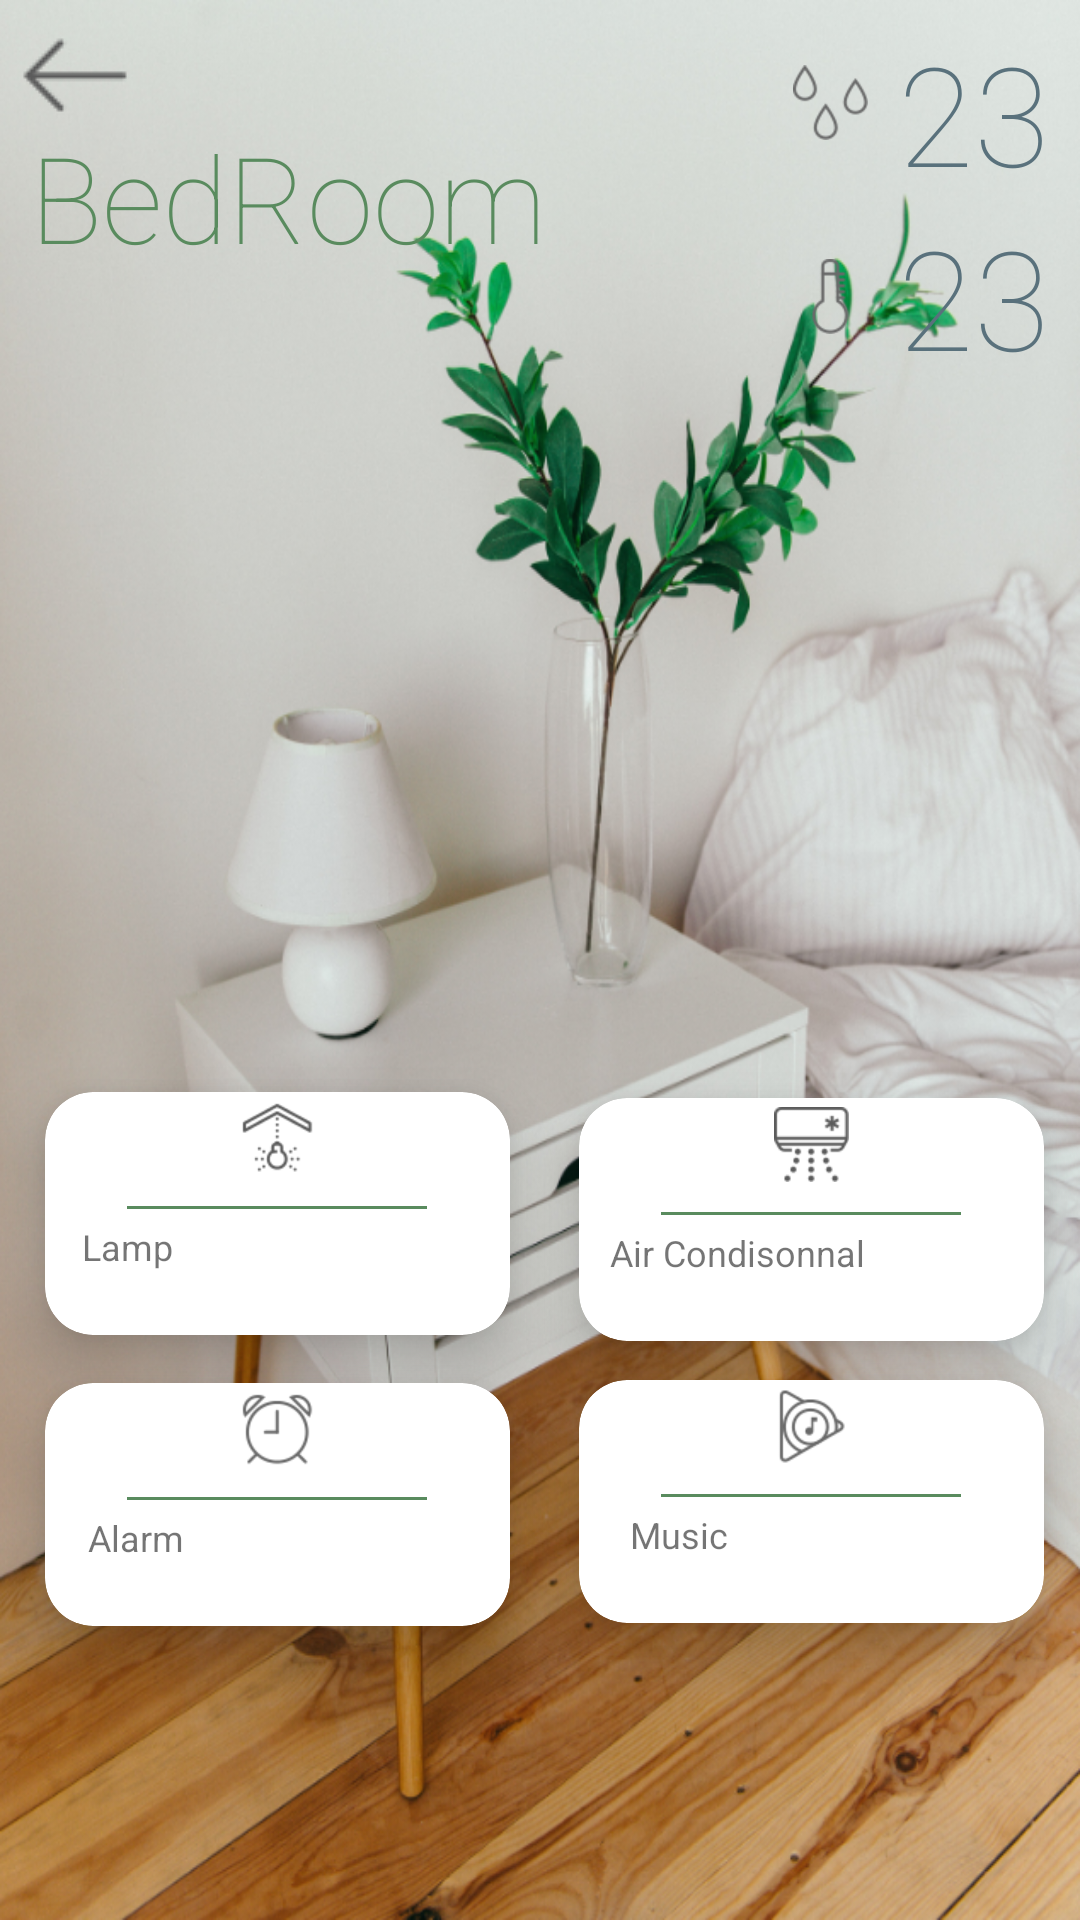

Icon click points for this 1080 x 1920 phone screenshot, format point (x, y):
airconditional: point (811, 1144)
lemp: point (277, 1138)
wet: point (830, 102)
